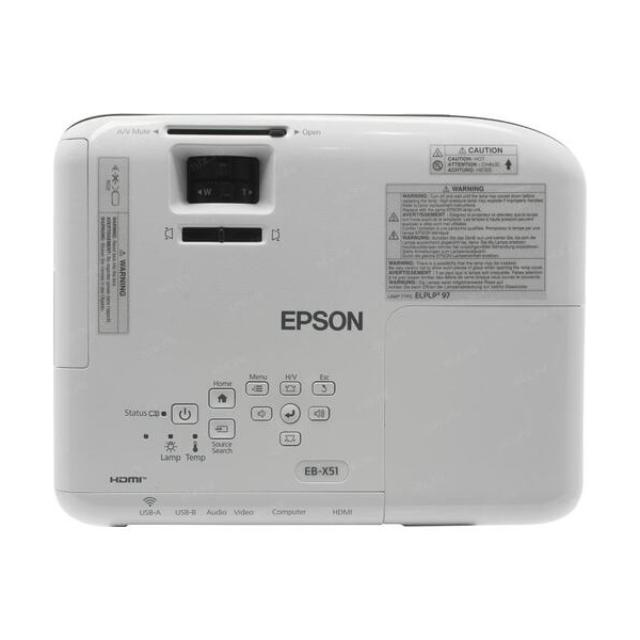Projector: (40, 79, 614, 574)
